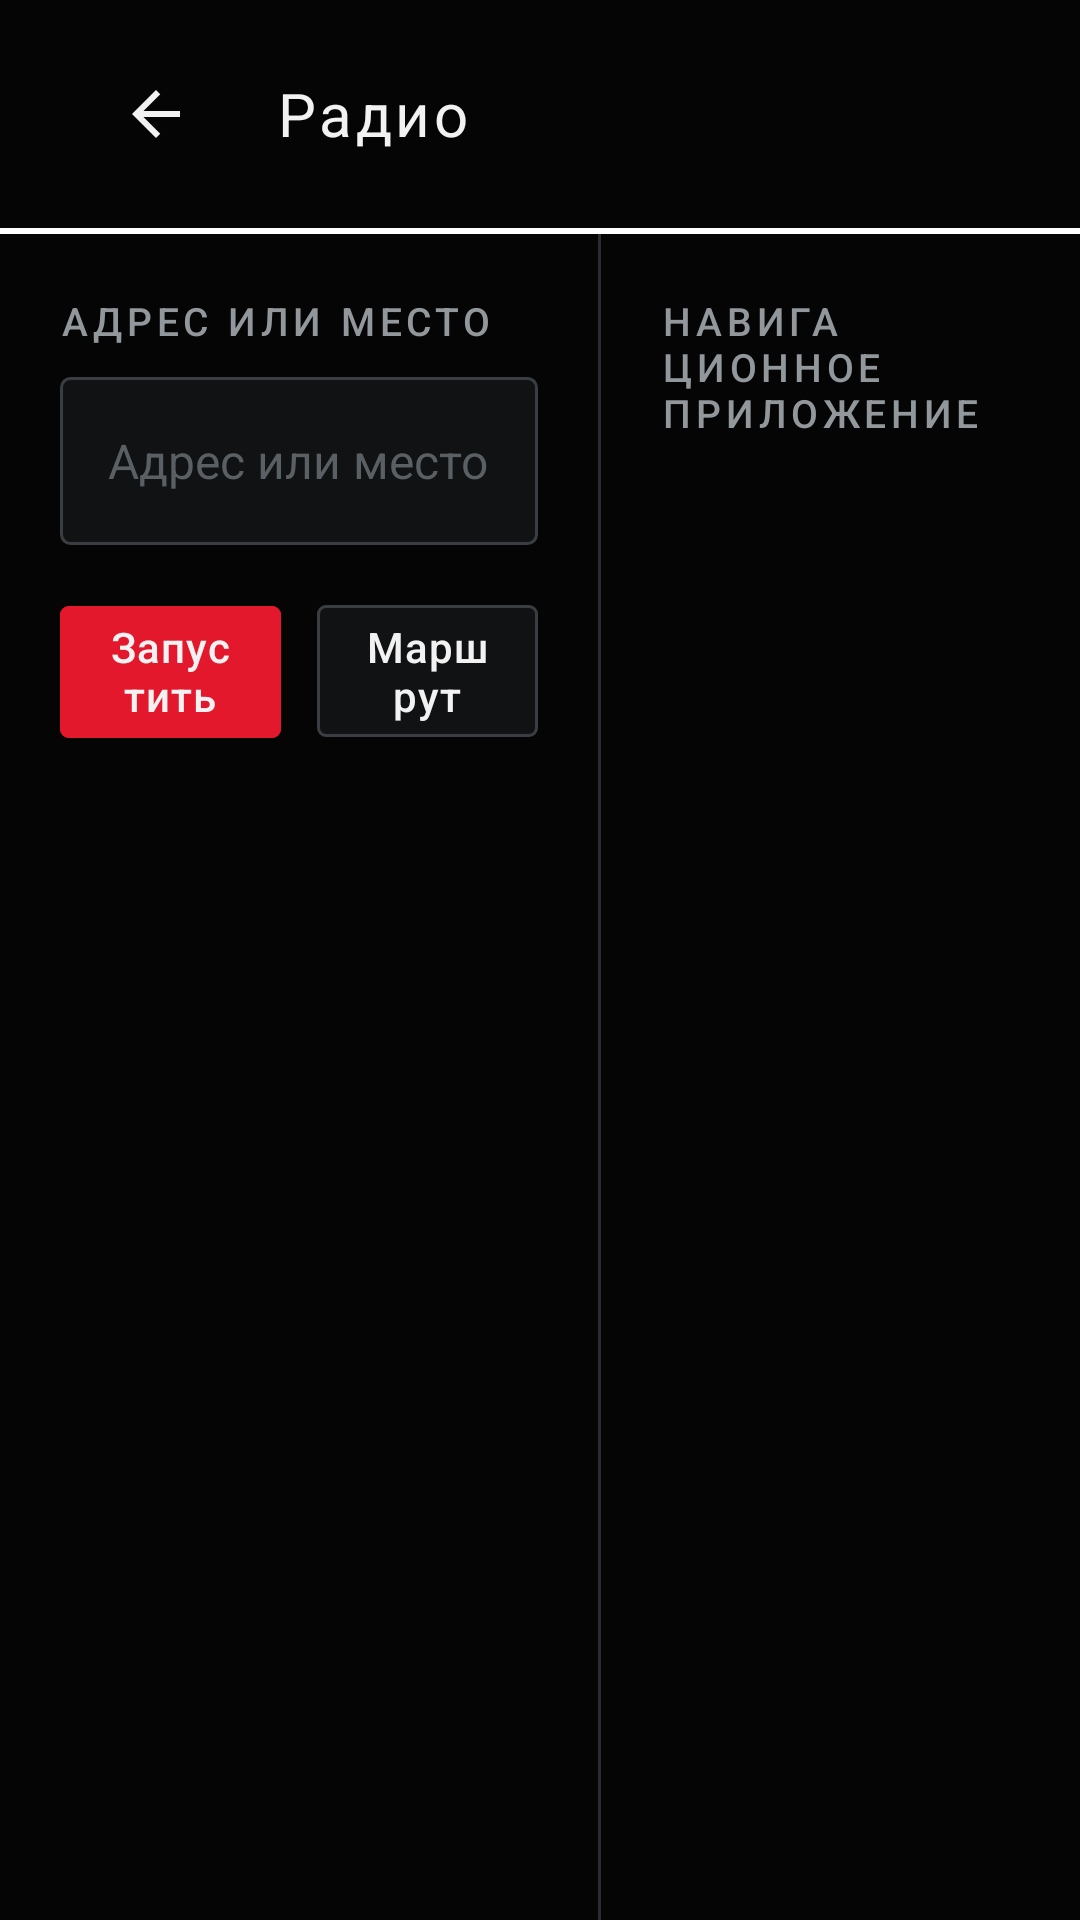

Screen size 1080px x 1920px. Icon name, then its box in pixels as (x1, y1, x2, y2):
Назад: (132, 90, 180, 138)
